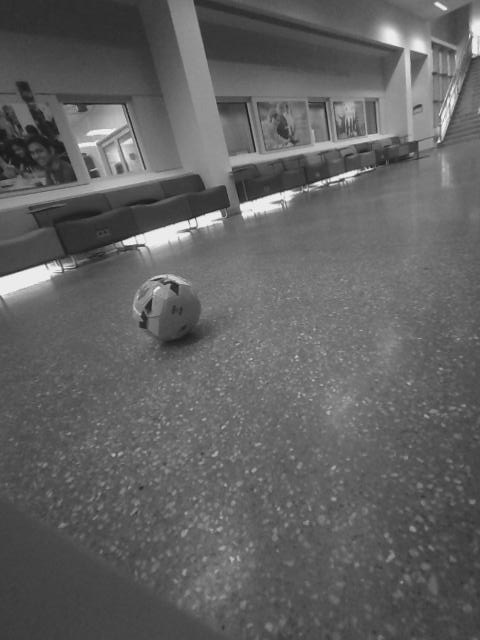ball: (127, 272, 205, 343)
